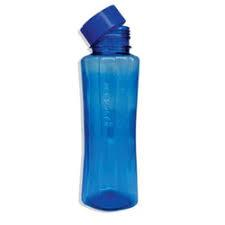Container for household chemicals: (74, 5, 144, 218)
